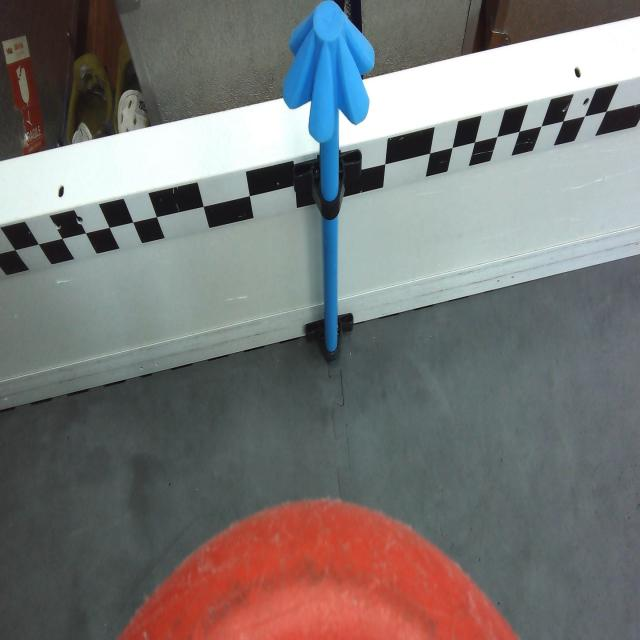zblue-Stake-Head: (283, 0, 376, 144)
